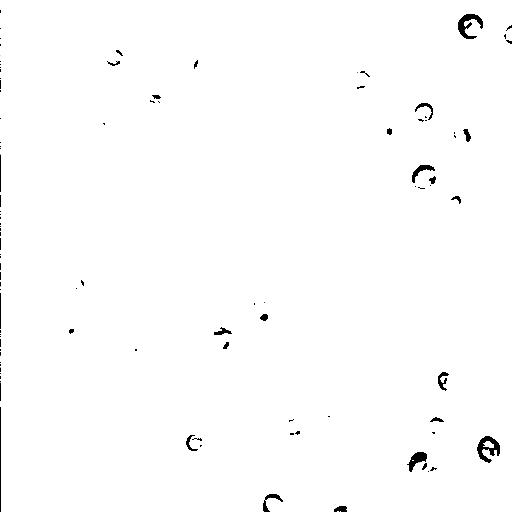micro-algae: (345, 44, 422, 117), (191, 275, 263, 343), (479, 424, 511, 507), (372, 12, 414, 58), (338, 122, 381, 165), (413, 455, 452, 492), (7, 261, 45, 297), (451, 115, 483, 151), (206, 327, 239, 359), (83, 107, 118, 137), (474, 435, 502, 463), (409, 163, 437, 191), (457, 13, 485, 41), (247, 303, 277, 329), (282, 417, 309, 443), (123, 337, 148, 364), (346, 68, 372, 89), (407, 449, 429, 473), (190, 50, 212, 74), (261, 491, 285, 512), (65, 272, 85, 296), (376, 120, 398, 141), (61, 320, 81, 341), (437, 370, 457, 391), (103, 48, 124, 67), (416, 101, 433, 123), (184, 433, 203, 452), (427, 416, 445, 433), (1, 397, 12, 421), (331, 502, 351, 512), (449, 195, 463, 209), (338, 0, 363, 7), (504, 23, 512, 44)
